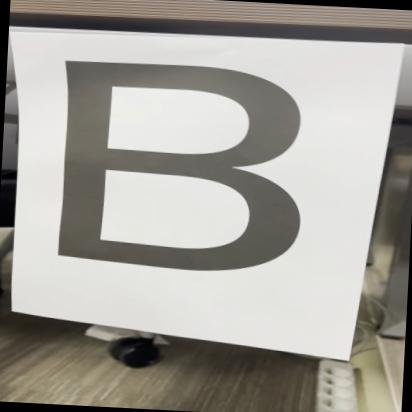seat: (39, 48, 318, 290)
